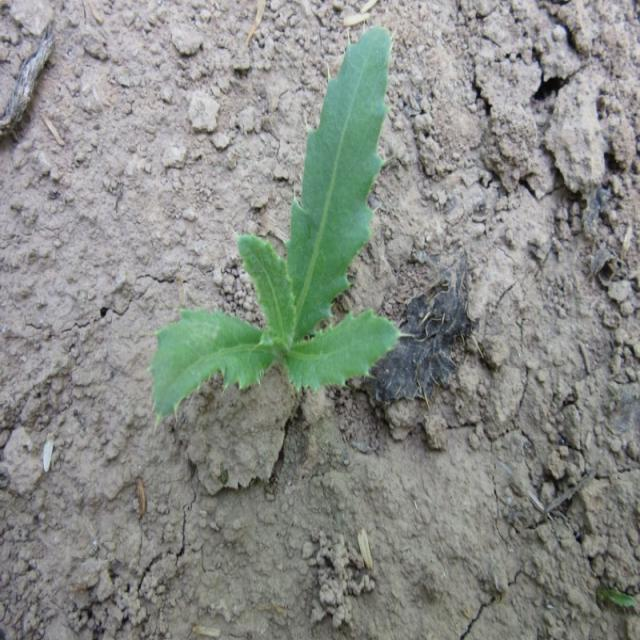field_thistle: (148, 23, 426, 434)
